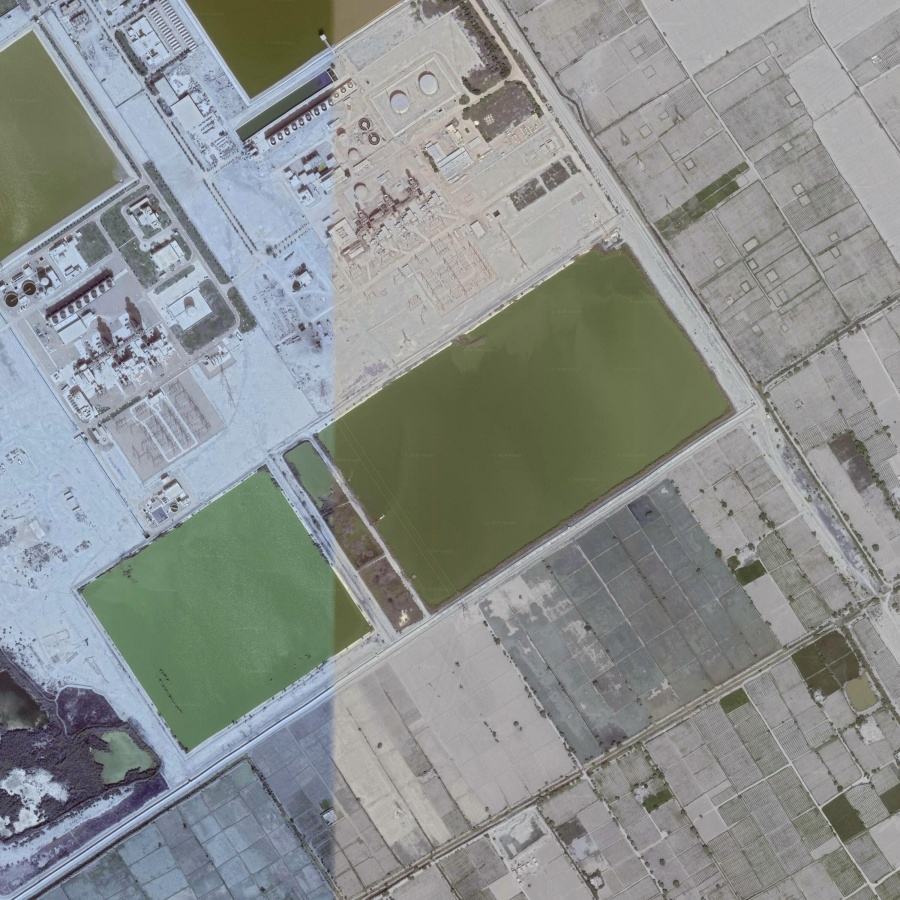PowerPlant: (1, 193, 243, 514), (283, 72, 478, 266)
